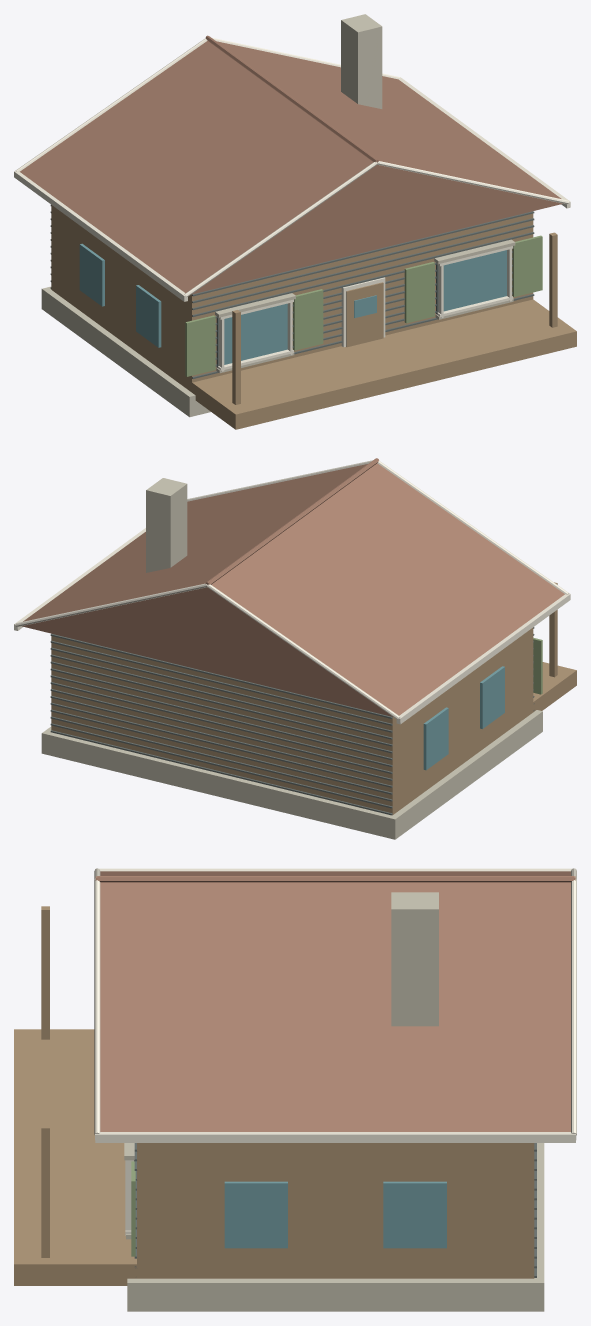
Rendered from ranger-lodge.glb.
3 renders of one model, top to bottom at view 1: azimuth 30°, elevation 25°; view 2: azimuth 150°, elevation 25°; view 3: azimuth 270°, elevation 25°, orthographic. The views are drawn at different scales.
Size of the model in its own units: 15.86 by 9.9 by 14.18.
